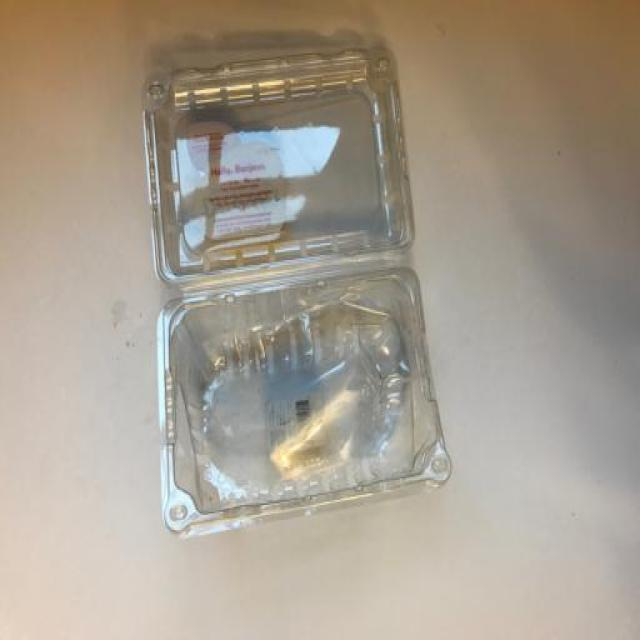plastic: (141, 42, 451, 536)
